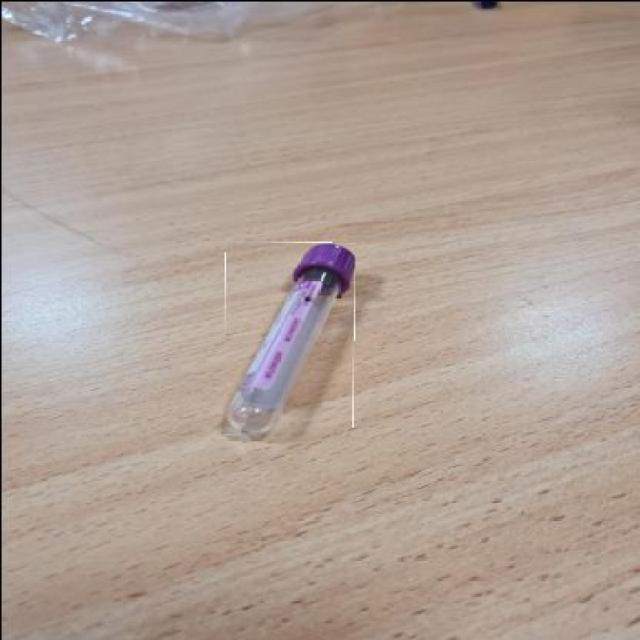Experimental-tube: (222, 241, 353, 436)
